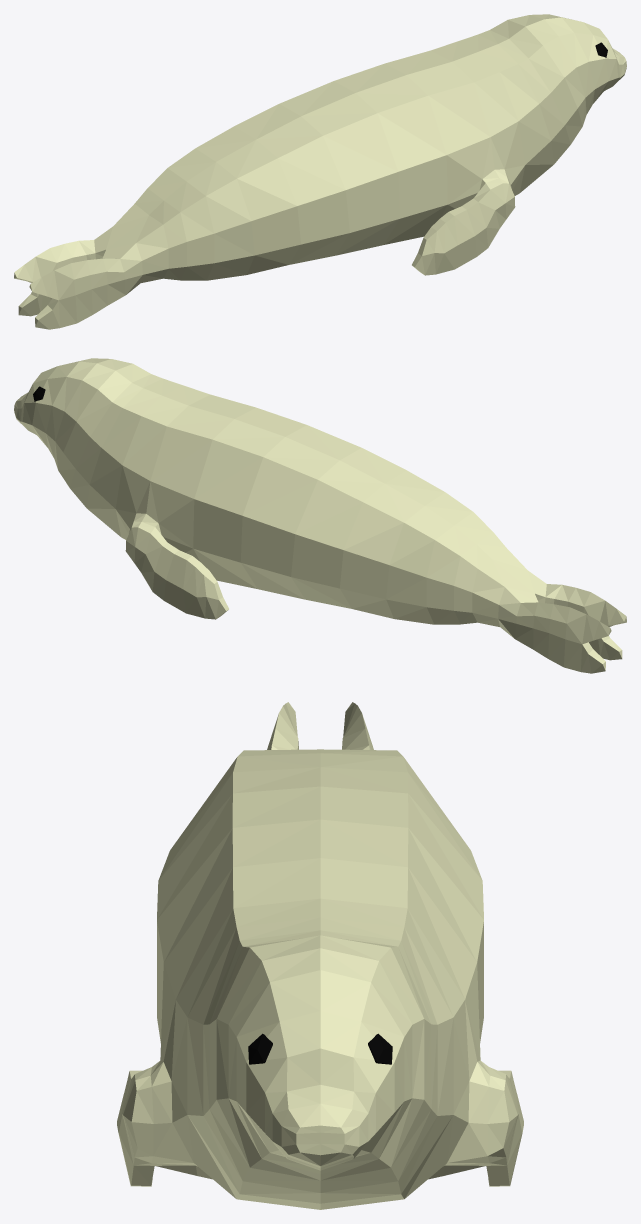
File: Seal.fbx
3 views of the same model, one above another, from view 1: azimuth 30°, elevation 25°; view 2: azimuth 150°, elevation 25°; view 3: azimuth 270°, elevation 25° (orthographic). The views are drawn at different scales.
Visible parts, largest first — view 1: Plane; view 2: Plane; view 3: Plane.
Part boxes in pixels (box(x1,y1,x2,y2)): Plane: box(14, 14, 626, 329); Plane: box(14, 358, 626, 673); Plane: box(117, 702, 523, 1209).
Size of the model in its own units: 169 by 49.17 by 49.7.
